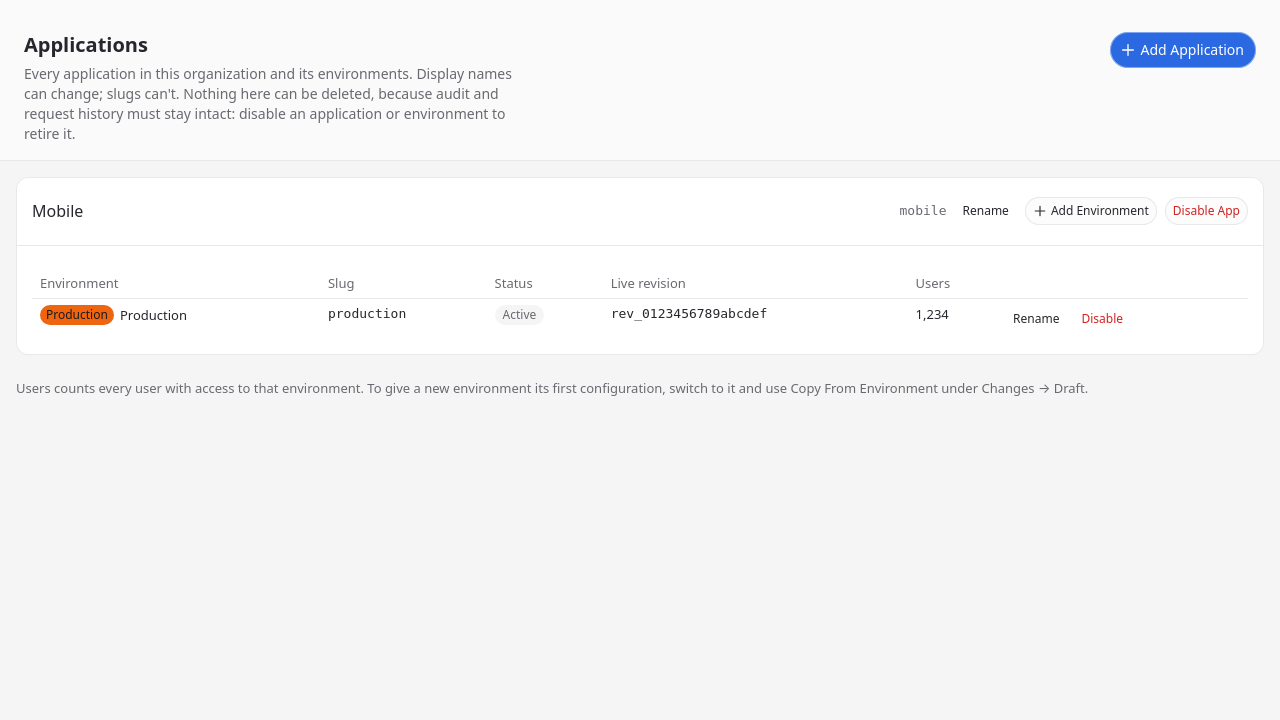
Test case: Applications › renames only the display name and counts each environment's users when the server supports it
Expected: the text "1,234" is shown, [916, 305, 949, 323]
Click the button "Rename" in the row of "Active".
click(1036, 319)  # box [1005, 305, 1068, 333]
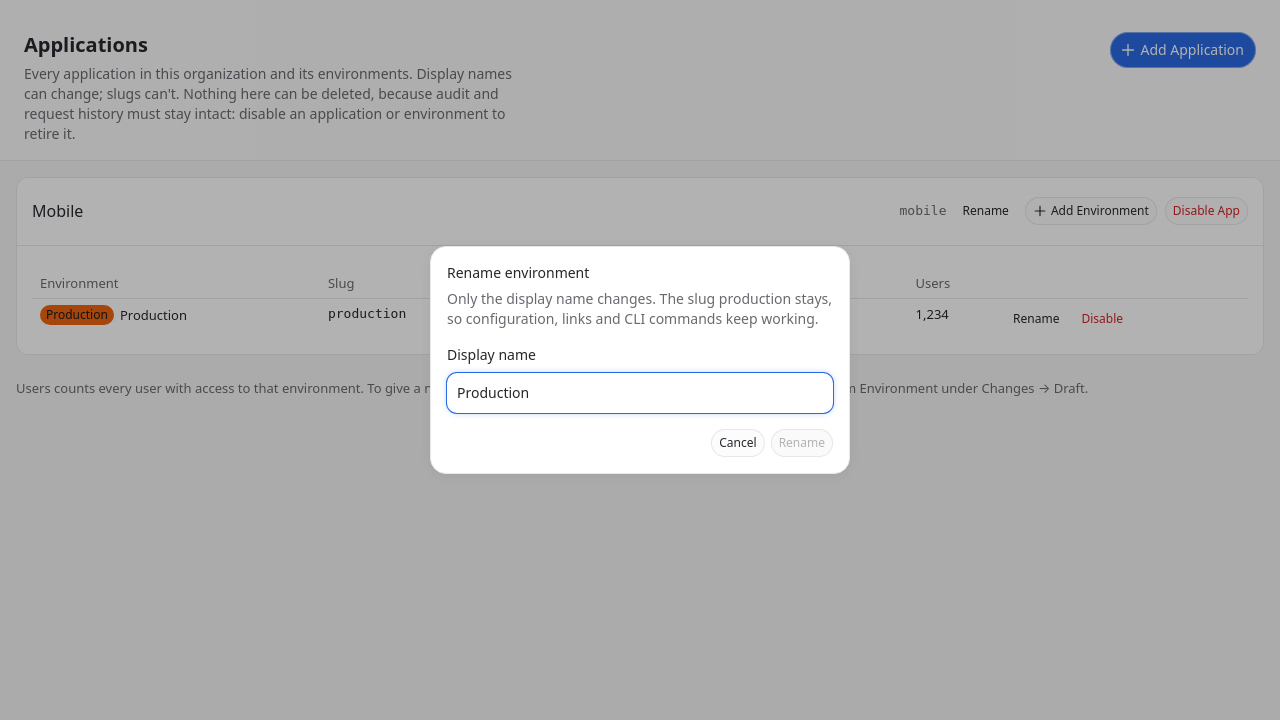
Expected: the dialog shows "The slug production stays", [447, 289, 832, 328]
Expected: the button "Rename" is disabled, [771, 429, 833, 457]
Replace the text in the field labelled "Display name" with "  Live  " at (640, 393), box [457, 383, 823, 403]
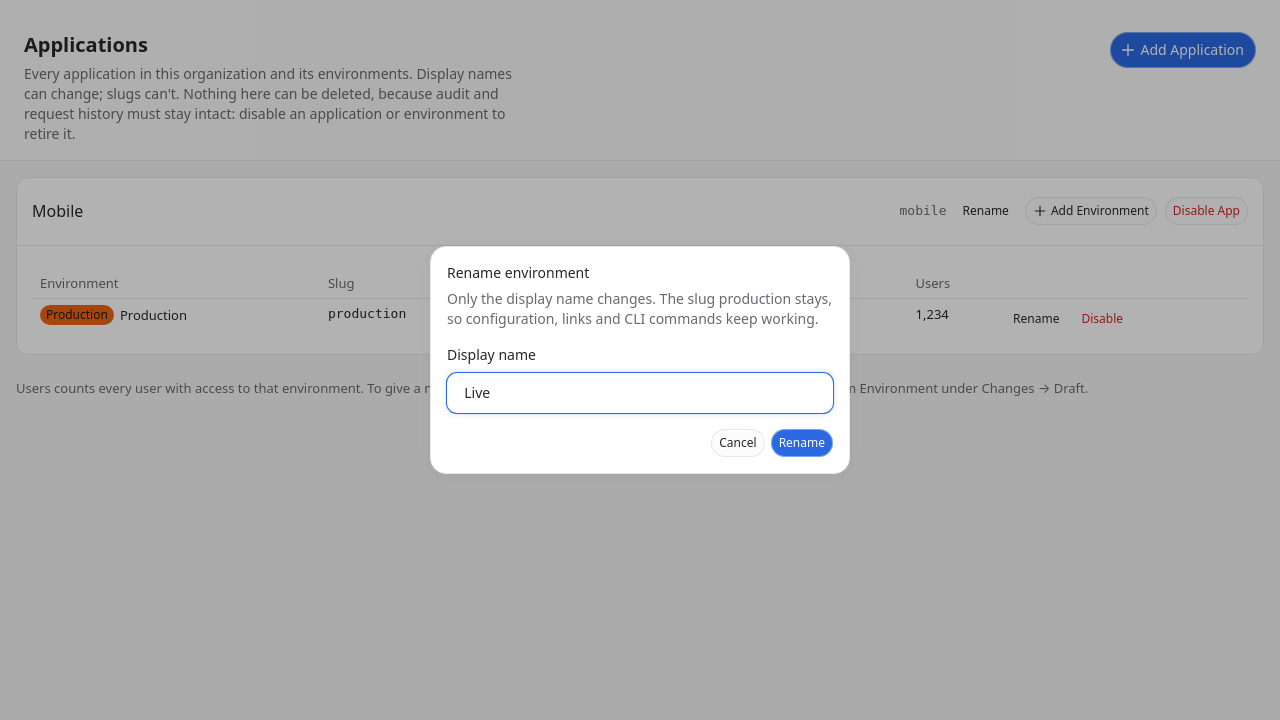
Click the button "Rename".
click(802, 443)  # box [771, 429, 833, 457]
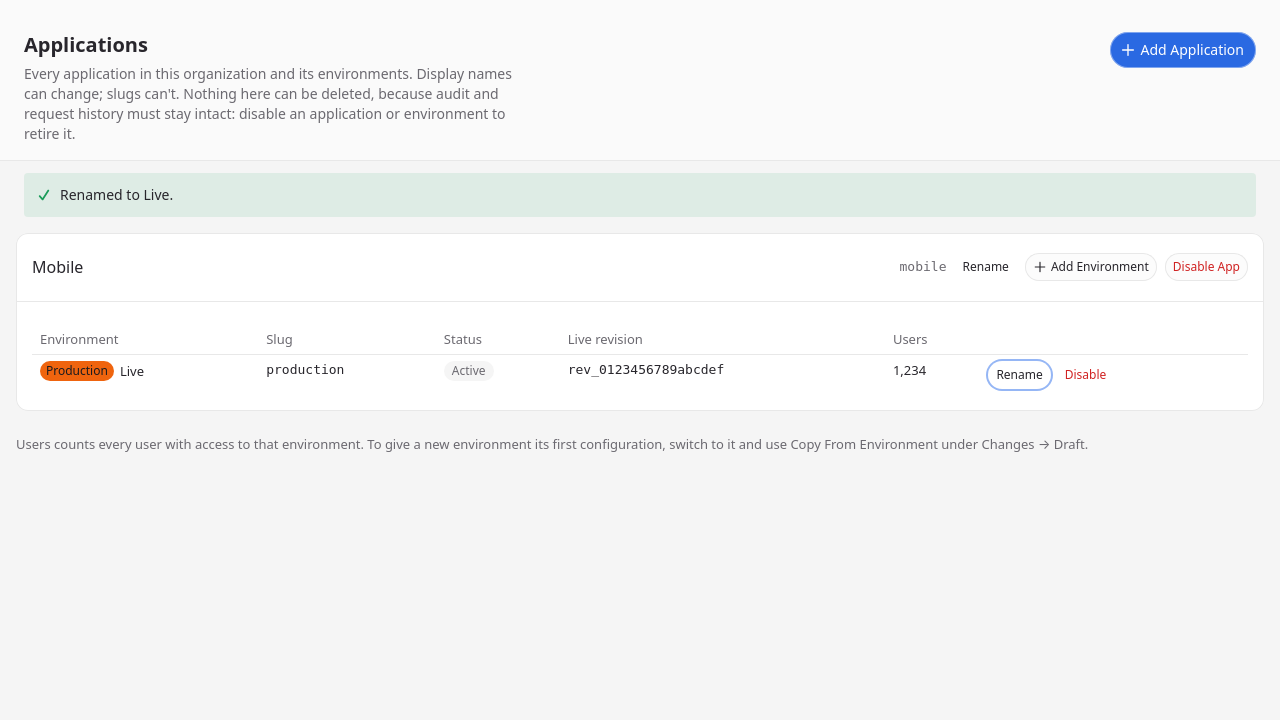
Expected: the text "Renamed to Live." is shown, [60, 185, 173, 204]
